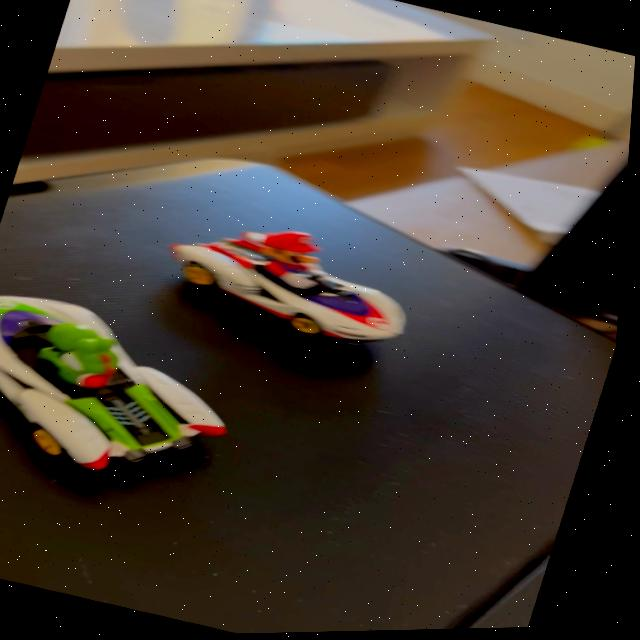mario: (154, 196, 452, 368)
yoshi: (0, 266, 280, 517)
